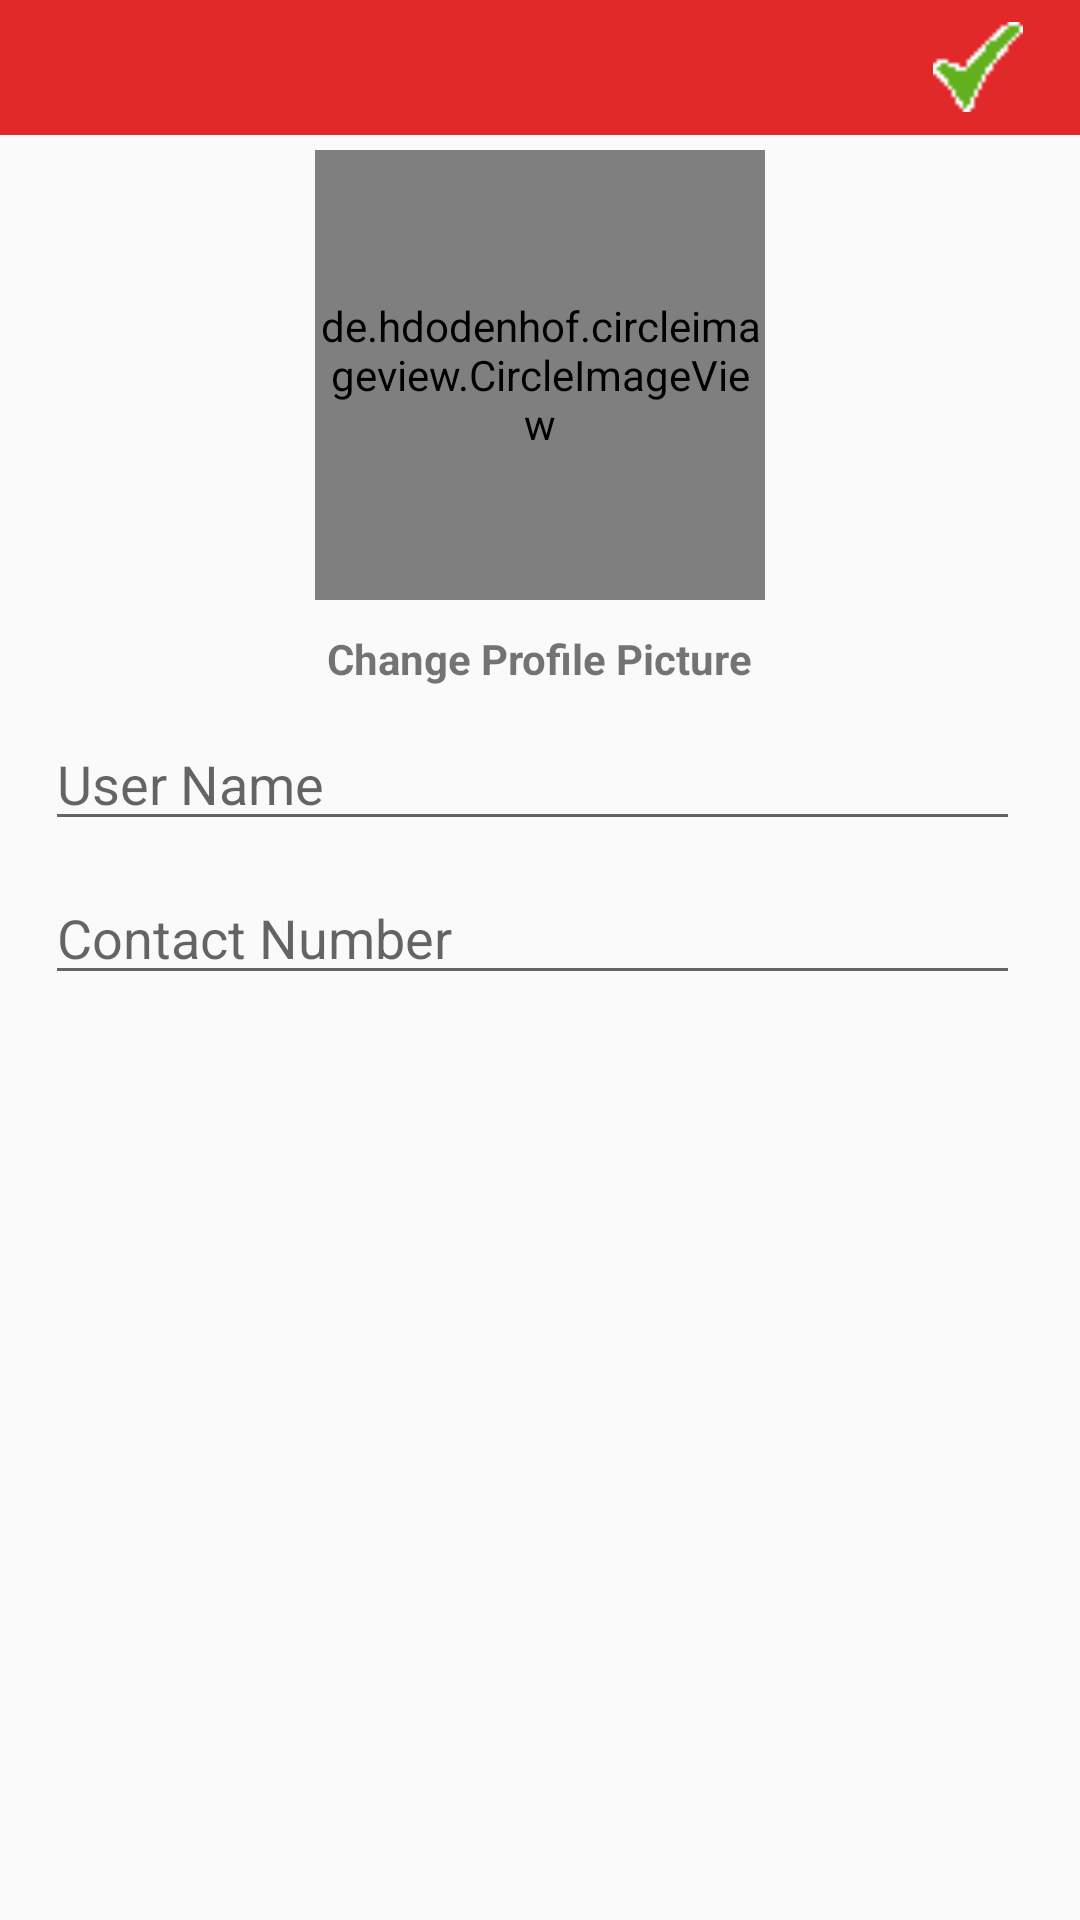

Icons on this 1080*1920 Android screen, each with the point to tap as (x=x, y=y):
save: (x=978, y=67)
